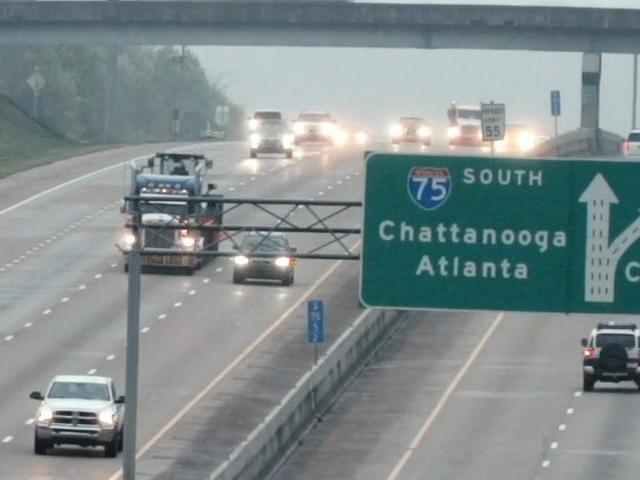car: (117, 148, 225, 273), (583, 321, 640, 396), (230, 228, 298, 282), (247, 109, 293, 157), (292, 111, 340, 149), (392, 116, 433, 151), (509, 126, 539, 152), (621, 128, 640, 158), (202, 124, 225, 138), (353, 129, 368, 146)
pickup-truck: (32, 372, 128, 458), (447, 102, 488, 150)
